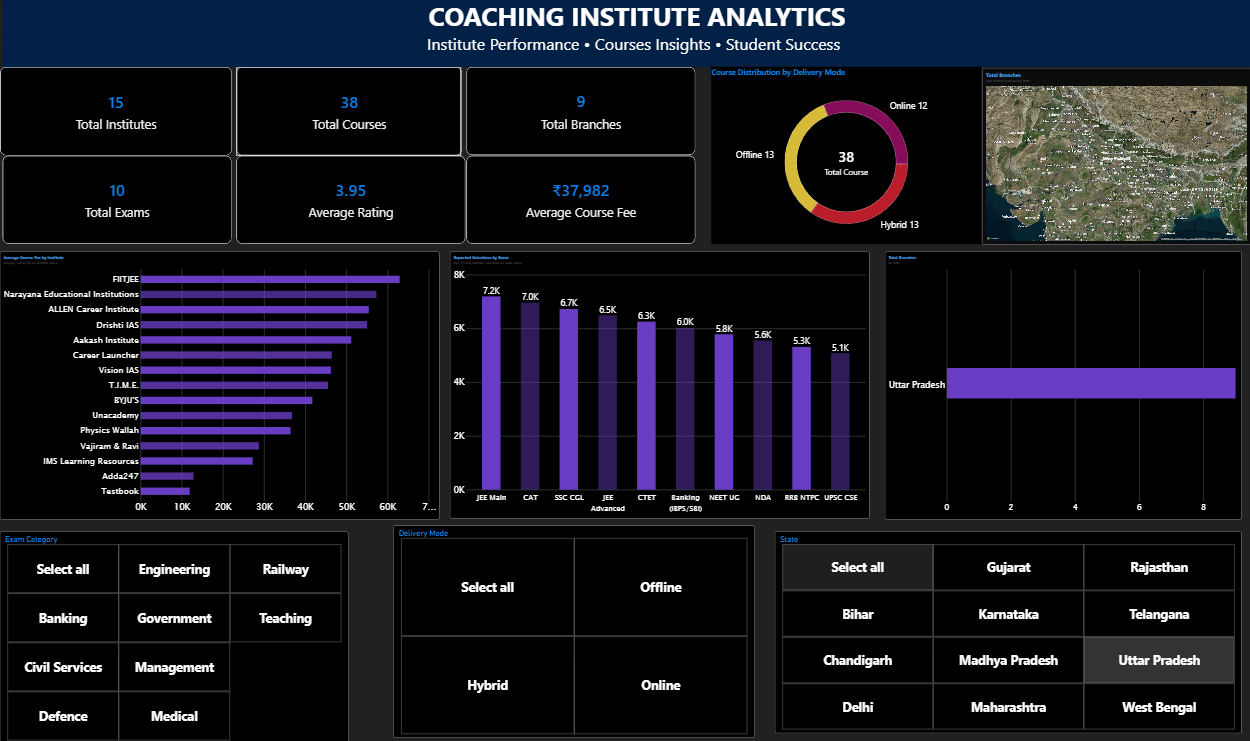

What the dashboard file says about the page in this screenshot:
{"tool":"powerbi","page":{"name":"Page 1","canvas":[6200,3700],"ordinal":0},"visuals":[{"type":"cardVisual","fields":{"Data":["Count(public vw_institute_overview.institute_id)"]},"box":[0,340,1150,440],"z":0},{"type":"cardVisual","fields":{"Data":["Sum(public vw_institute_overview.total_courses)"]},"box":[1170,340,1120,440],"z":1000},{"type":"cardVisual","fields":{"Data":["Count(public vw_exam_results_analysis.exam_id)"]},"box":[10,780,1136.6,438.7],"z":2000},{"type":"cardVisual","fields":{"Data":["public vw_course_fee_analysis.Overall Average Course Fee"]},"box":[2310,780,1136.6,438.7],"z":3000},{"type":"cardVisual","fields":{"Data":["Avg(public vw_review_analysis.average_rating)"]},"box":[1170,780,1136.6,438.7],"z":4000},{"type":"cardVisual","fields":{"Data":["Sum(public vw_state_branch_analysis.total_branches)"]},"box":[2310,340,1136.6,438.7],"z":5000},{"type":"textbox","box":[13.2,0,6188.1,343.4],"z":6000},{"type":"clusteredBarChart","title":" Average Course Fee by Institute","fields":{"Category":["public vw_course_fee_analysis.institute_name"],"Y":["Avg(public vw_course_fee_analysis.average_course_fee)"]},"box":[0,1261.4,2179.4,1327.4],"z":7000},{"type":"donutChart","title":"Course Distribution by Delivery Mode","fields":{"Category":["public vw_delivery_mode_analysis.delivery_mode"],"Y":["Sum(public vw_delivery_mode_analysis.total_courses)"]},"box":[3530,340,1340,880],"z":8000},{"type":"clusteredColumnChart","title":"Reported Selections by Exam","fields":{"Category":["public vw_exam_results_analysis.exam_name"],"Y":["Sum(public vw_exam_results_analysis.total_reported_selections)"]},"box":[2232.2,1261.4,2080.4,1322.7],"z":9000},{"type":"clusteredBarChart","fields":{"Category":["public vw_state_branch_analysis.state"],"Y":["Sum(public vw_state_branch_analysis.total_branches)"]},"box":[4391.8,1261.4,1769.9,1327.4],"z":9001},{"type":"slicer","fields":{"Values":["public vw_exam_results_analysis.exam_category"]},"box":[0,2645.2,1727.5,1052.7],"z":9003},{"type":"slicer","fields":{"Values":["public vw_delivery_mode_analysis.delivery_mode"]},"box":[1950.2,2618.2,1788.2,1052.7],"z":9004},{"type":"slicer","fields":{"Values":["public vw_state_branch_analysis.state"]},"box":[3846.3,2645.2,2314.5,998.7],"z":9005},{"type":"map","title":"Total Branches","fields":{"Category":["public vw_state_branch_analysis.state"],"Size":["Sum(public vw_state_branch_analysis.total_branches)"]},"box":[4870,345,1330,877],"z":9006}]}

Visuals, with their boxes in screenshot pixels (x1, y1, x2, y2), scaled from the page's 6200x3700 canvas onto the 1250x741 screenshot:
cardVisual - Count(public vw_institute_overview.institute_id): [0, 68, 232, 156]
cardVisual - Sum(public vw_institute_overview.total_courses): [236, 68, 462, 156]
cardVisual - Count(public vw_exam_results_analysis.exam_id): [2, 156, 231, 244]
cardVisual - public vw_course_fee_analysis.Overall Average Course Fee: [466, 156, 695, 244]
cardVisual - Avg(public vw_review_analysis.average_rating): [236, 156, 465, 244]
cardVisual - Sum(public vw_state_branch_analysis.total_branches): [466, 68, 695, 156]
textbox: [3, 0, 1249, 69]
" Average Course Fee by Institute" clusteredBarChart: [0, 253, 439, 518]
"Course Distribution by Delivery Mode" donutChart: [712, 68, 982, 244]
"Reported Selections by Exam" clusteredColumnChart: [450, 253, 869, 518]
clusteredBarChart - public vw_state_branch_analysis.state x Sum(public vw_state_branch_analysis.total_branches): [885, 253, 1242, 518]
slicer - public vw_exam_results_analysis.exam_category: [0, 530, 348, 740]
slicer - public vw_delivery_mode_analysis.delivery_mode: [393, 524, 754, 735]
slicer - public vw_state_branch_analysis.state: [775, 530, 1242, 730]
"Total Branches" map: [982, 69, 1249, 245]
